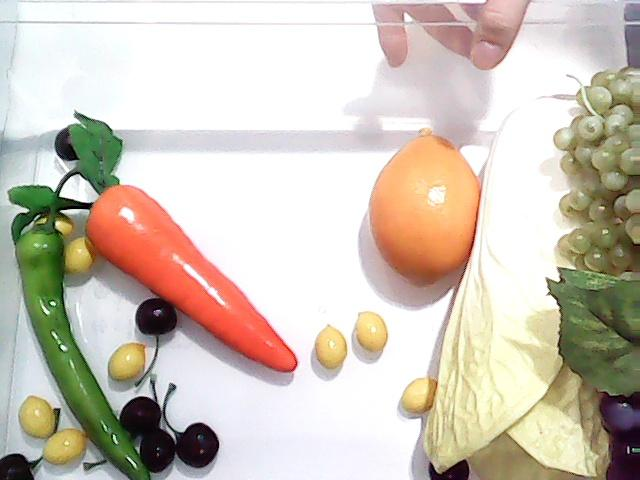carrot: (10, 108, 296, 376)
grape: (546, 275, 640, 480), (560, 69, 640, 275)
lemon: (363, 124, 491, 286)
napa cabbage: (436, 82, 640, 480)
pepper: (7, 180, 149, 480)
